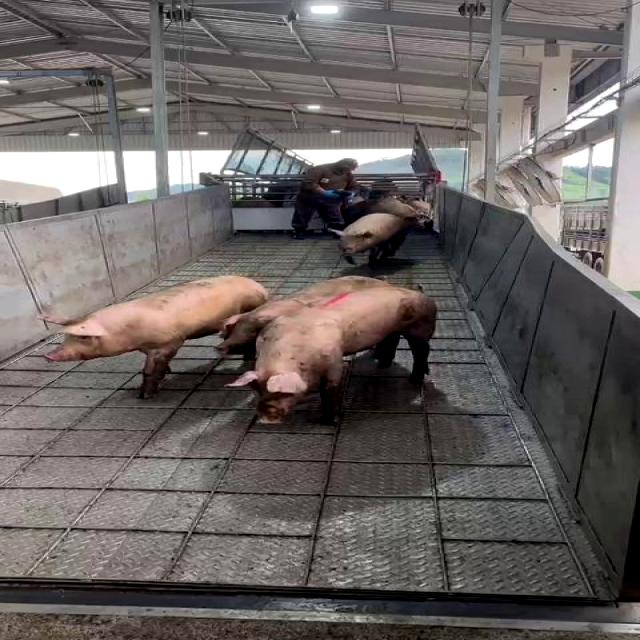pig: (231, 286, 438, 424), (46, 276, 268, 398), (218, 276, 391, 358), (332, 212, 412, 264)
